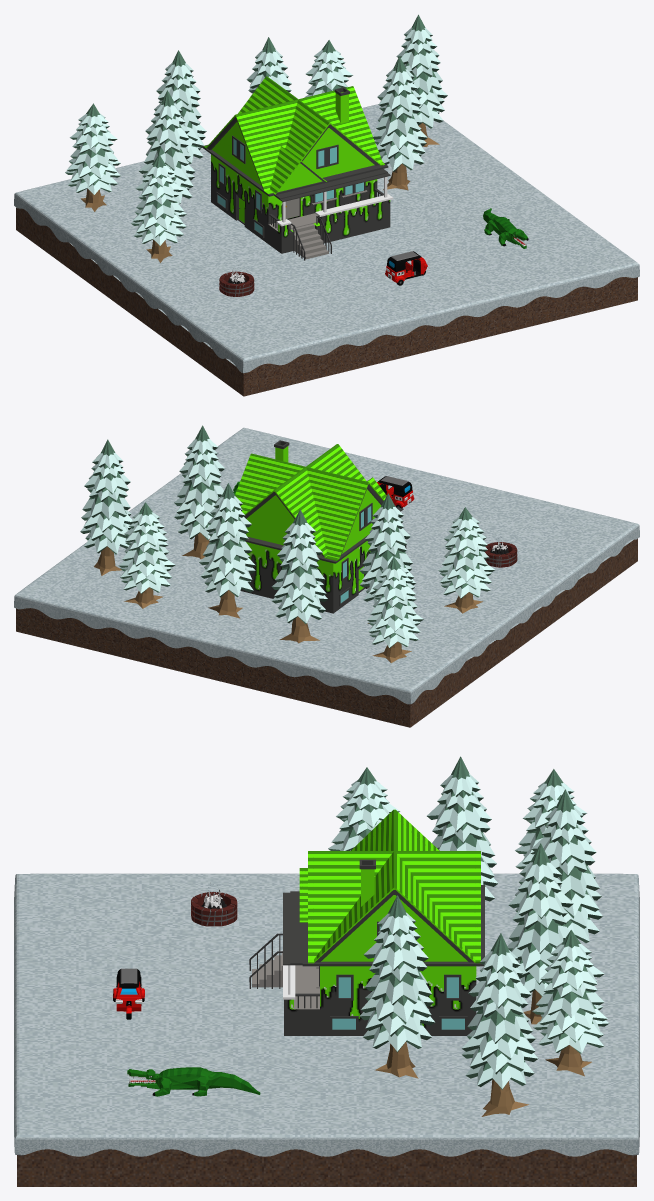
3 views of the same model, one above another, from view 1: azimuth 30°, elevation 25°; view 2: azimuth 150°, elevation 25°; view 3: azimuth 270°, elevation 25° (orthographic). The views are drawn at different scales.
Visible parts, largest first — view 1: Cube.003, Cube.754, VEHICLES_TUC_TUC, ANIMAL_COCODRILO, OBJRANDOM_CAMPFIRE; view 2: Cube.003, Cube.754, VEHICLES_TUC_TUC, OBJRANDOM_CAMPFIRE; view 3: Cube.003, Cube.754, ANIMAL_COCODRILO, OBJRANDOM_CAMPFIRE, VEHICLES_TUC_TUC.
Boxes of the visible parts, bbox=[...] form: Cube.003: bbox=[14, 14, 639, 396]; Cube.754: bbox=[202, 76, 393, 260]; VEHICLES_TUC_TUC: bbox=[385, 251, 427, 285]; ANIMAL_COCODRILO: bbox=[483, 208, 528, 248]; OBJRANDOM_CAMPFIRE: bbox=[219, 270, 254, 296]; Cube.003: bbox=[14, 425, 639, 727]; Cube.754: bbox=[235, 440, 406, 613]; VEHICLES_TUC_TUC: bbox=[377, 476, 414, 508]; OBJRANDOM_CAMPFIRE: bbox=[485, 541, 517, 567]; Cube.003: bbox=[14, 756, 639, 1186]; Cube.754: bbox=[249, 809, 484, 1035]; ANIMAL_COCODRILO: bbox=[127, 1067, 260, 1096]; OBJRANDOM_CAMPFIRE: bbox=[191, 889, 237, 926]; VEHICLES_TUC_TUC: bbox=[113, 968, 144, 1019].
Size of the model in its own units: 4040 by 1665 by 4040.
Materials: 33 (4 with a texture image).
